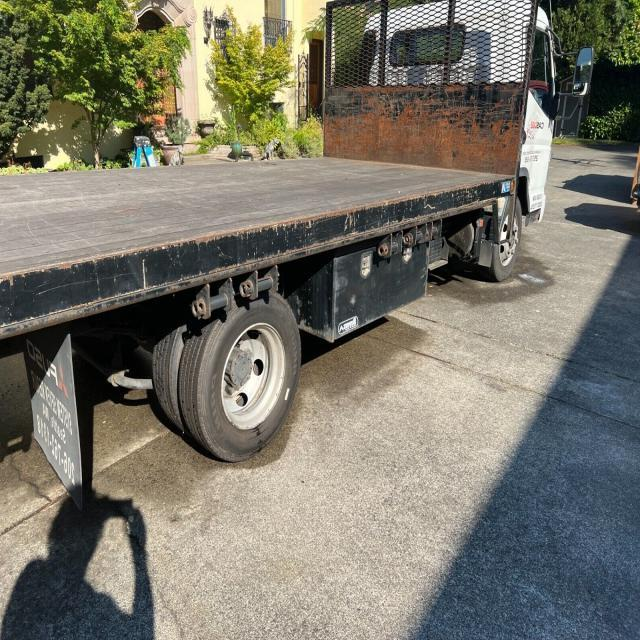truck: (1, 0, 596, 486)
